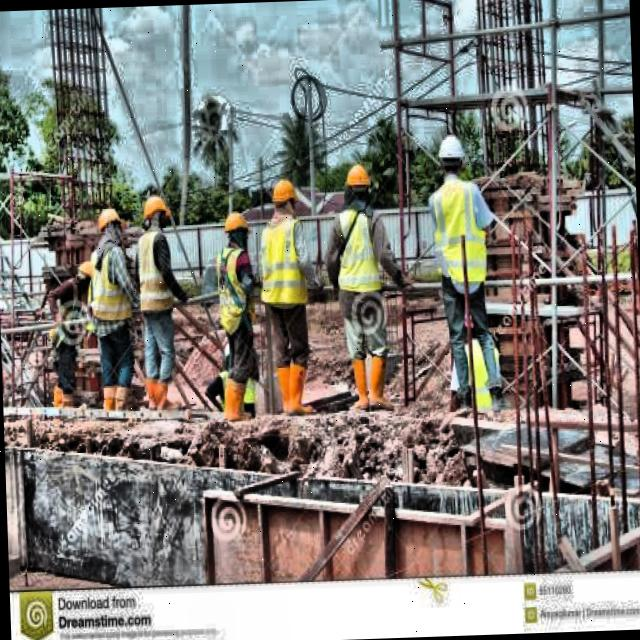helmet: (436, 136, 468, 186), (93, 205, 127, 251), (140, 192, 173, 235), (221, 206, 250, 254), (342, 161, 372, 207), (270, 174, 298, 218), (72, 254, 100, 289)
